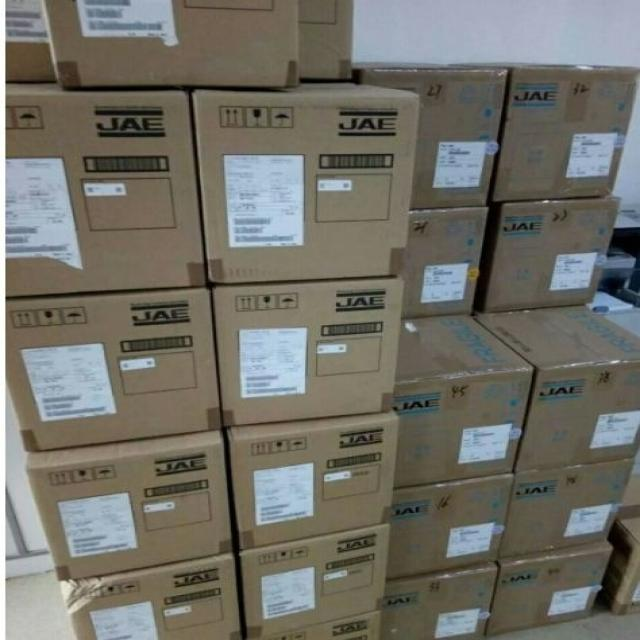box: (191, 80, 417, 286), (5, 83, 208, 300), (6, 287, 222, 455), (24, 429, 232, 582), (209, 279, 405, 429), (475, 308, 639, 472), (459, 63, 639, 202), (394, 314, 534, 491), (223, 412, 398, 552), (352, 61, 508, 211), (43, 1, 298, 89), (236, 526, 389, 639), (480, 196, 620, 315), (60, 555, 243, 639), (386, 472, 516, 580), (498, 459, 634, 559), (488, 542, 613, 635), (404, 207, 490, 320), (382, 561, 496, 639), (298, 1, 354, 81), (4, 1, 58, 83), (596, 516, 639, 617), (261, 608, 383, 639), (618, 458, 639, 521)
